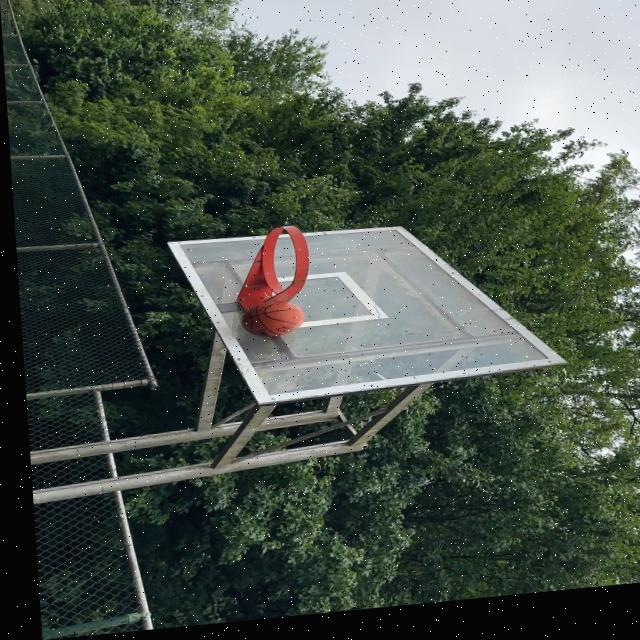rebound_hit: (245, 299, 304, 342)
